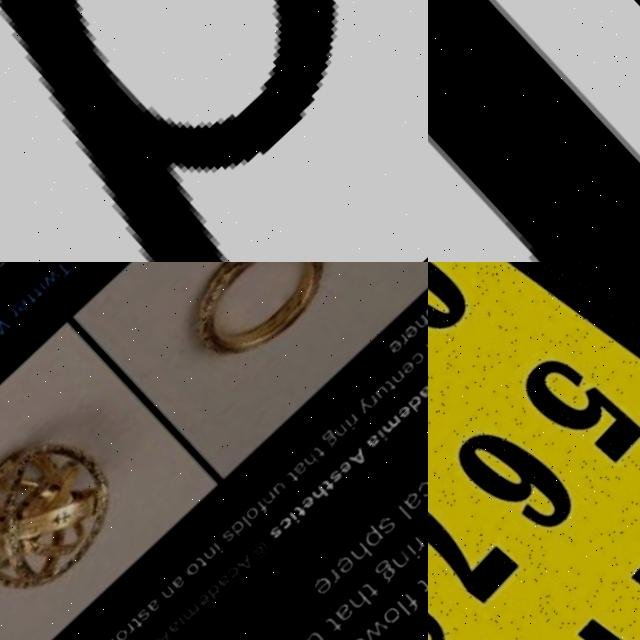0: (428, 262, 506, 387)
5: (486, 316, 640, 511)
6: (432, 395, 609, 575)
7: (428, 452, 547, 640)
A: (347, 448, 371, 473), (335, 604, 357, 625), (403, 494, 425, 515), (237, 555, 257, 576), (364, 435, 382, 454), (217, 573, 235, 592), (167, 620, 185, 638), (171, 575, 189, 593), (293, 461, 310, 479), (147, 598, 164, 616), (155, 629, 178, 640), (416, 386, 428, 404)
C: (409, 352, 427, 370), (278, 516, 296, 534), (226, 565, 243, 582), (416, 480, 428, 502)
D: (0, 0, 428, 262), (206, 584, 228, 605), (406, 396, 427, 417), (231, 521, 250, 540)
E: (336, 557, 357, 578), (314, 577, 335, 598), (299, 495, 318, 514), (12, 296, 31, 315), (337, 460, 355, 479), (195, 593, 214, 611), (395, 406, 413, 424), (403, 325, 421, 343), (388, 340, 406, 358), (400, 361, 417, 378)
F: (402, 593, 425, 617), (254, 499, 272, 517)
G: (372, 559, 402, 588), (320, 430, 341, 452)
H: (349, 592, 375, 618), (351, 544, 376, 570), (311, 486, 332, 507), (302, 454, 320, 472), (414, 316, 428, 335), (424, 338, 428, 357)
I: (406, 545, 424, 565), (343, 419, 357, 434), (376, 431, 389, 445), (290, 512, 303, 526), (178, 616, 191, 630), (38, 283, 50, 295), (214, 544, 225, 557)
L: (396, 601, 415, 620), (397, 506, 415, 526), (240, 515, 255, 530)
M: (380, 415, 404, 439), (182, 602, 203, 624)
N: (428, 0, 640, 262), (391, 550, 415, 574), (332, 423, 351, 441), (261, 490, 279, 509), (202, 546, 220, 563), (161, 584, 178, 602), (390, 371, 407, 388), (104, 636, 122, 640)
O: (383, 607, 406, 630), (244, 505, 263, 524), (185, 561, 203, 580), (114, 627, 132, 640)
P: (361, 528, 386, 552), (422, 304, 428, 323)
R: (410, 537, 428, 555), (326, 569, 344, 587), (396, 334, 411, 350), (124, 622, 139, 636), (6, 306, 20, 321), (366, 396, 380, 410), (347, 415, 360, 428)
S: (378, 518, 398, 539), (136, 606, 155, 625), (268, 525, 286, 543), (221, 528, 239, 545), (329, 470, 346, 487)
T: (325, 615, 347, 639), (363, 582, 384, 603), (52, 262, 73, 279), (320, 478, 338, 497), (382, 379, 399, 397), (293, 505, 310, 522), (285, 470, 302, 487), (22, 291, 38, 308), (312, 447, 328, 463), (130, 617, 146, 633), (196, 555, 212, 571), (416, 578, 428, 599), (29, 285, 44, 301)
U: (372, 386, 391, 404), (272, 481, 289, 498), (306, 631, 327, 640)
W: (364, 617, 392, 640), (40, 268, 61, 289), (0, 316, 11, 343)
Y: (355, 398, 376, 418), (421, 515, 428, 542)
